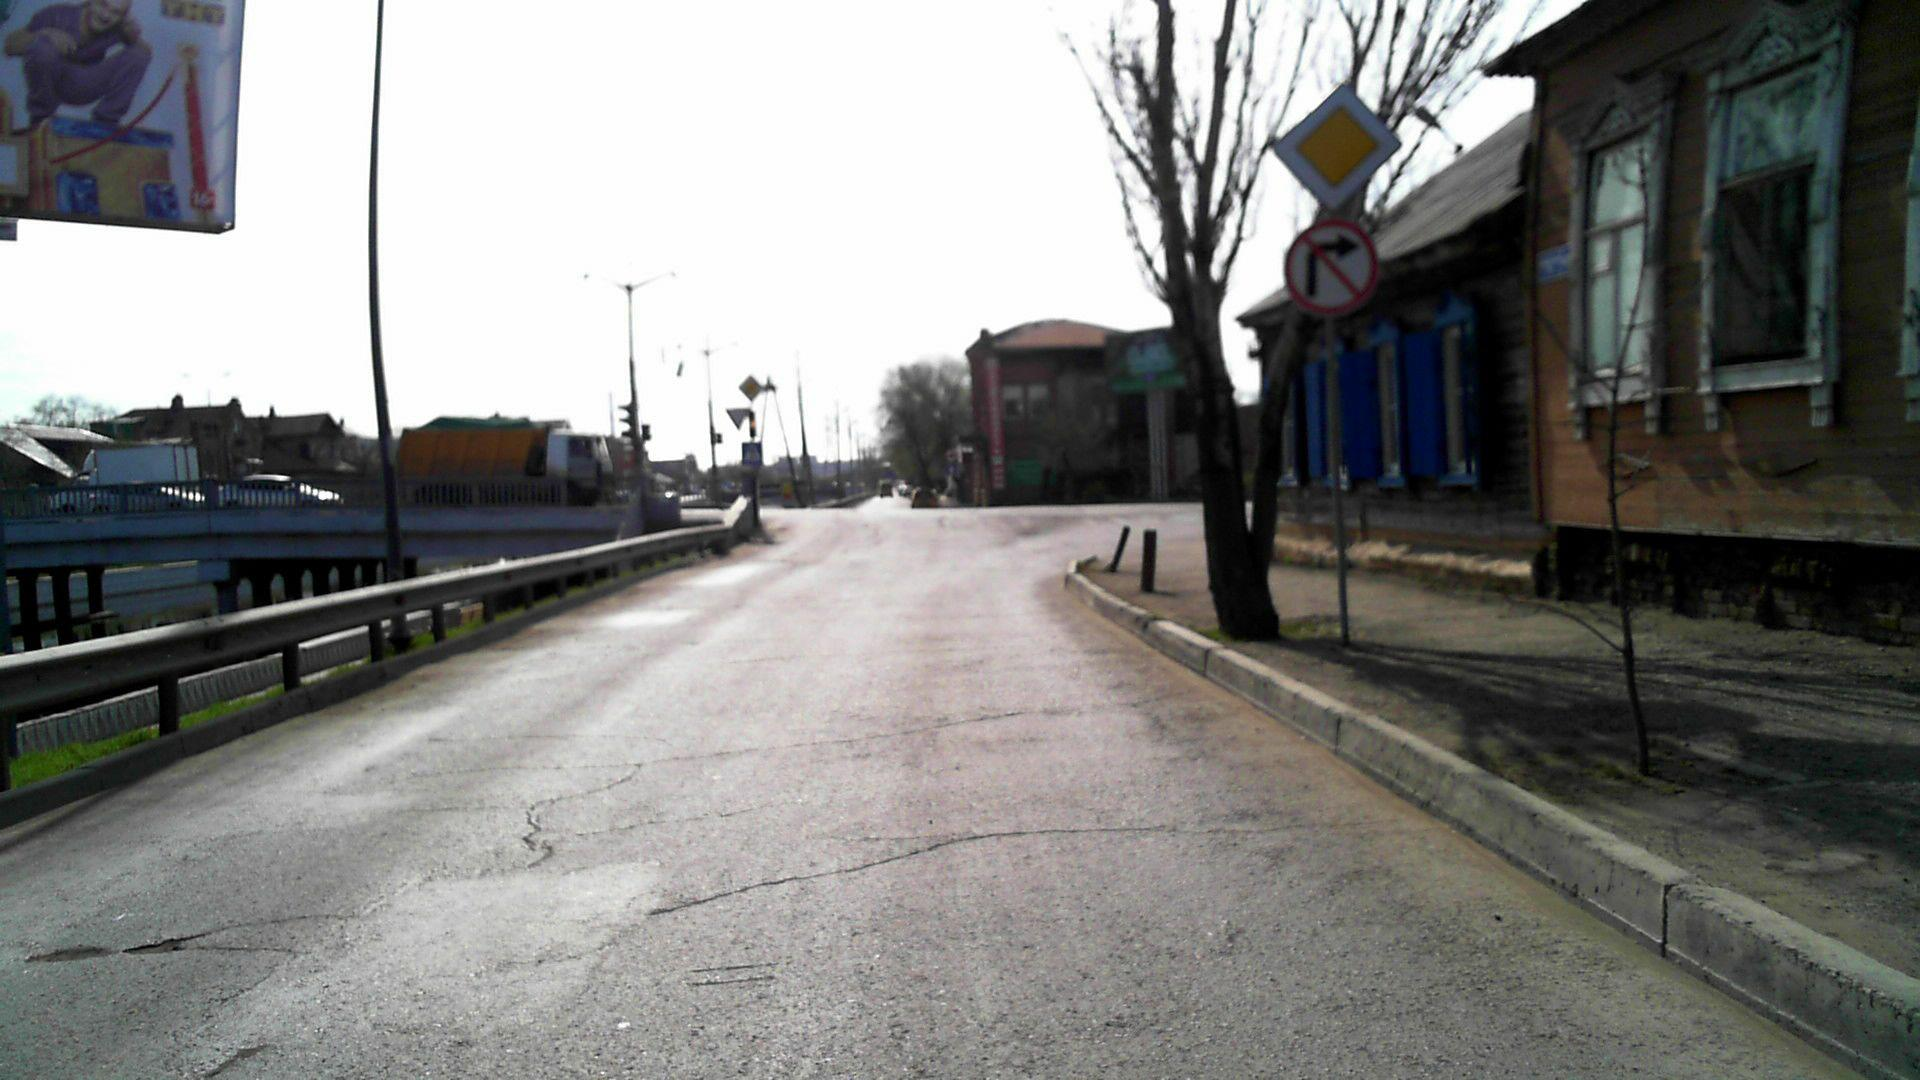2_1: (1267, 80, 1402, 211)
2_2: (741, 373, 760, 402)
2_4: (727, 407, 750, 430)
3_18_1: (1280, 223, 1378, 315)
3_4: (944, 447, 963, 463)
5_19_2: (744, 442, 762, 463)
5_5: (943, 464, 959, 476)
